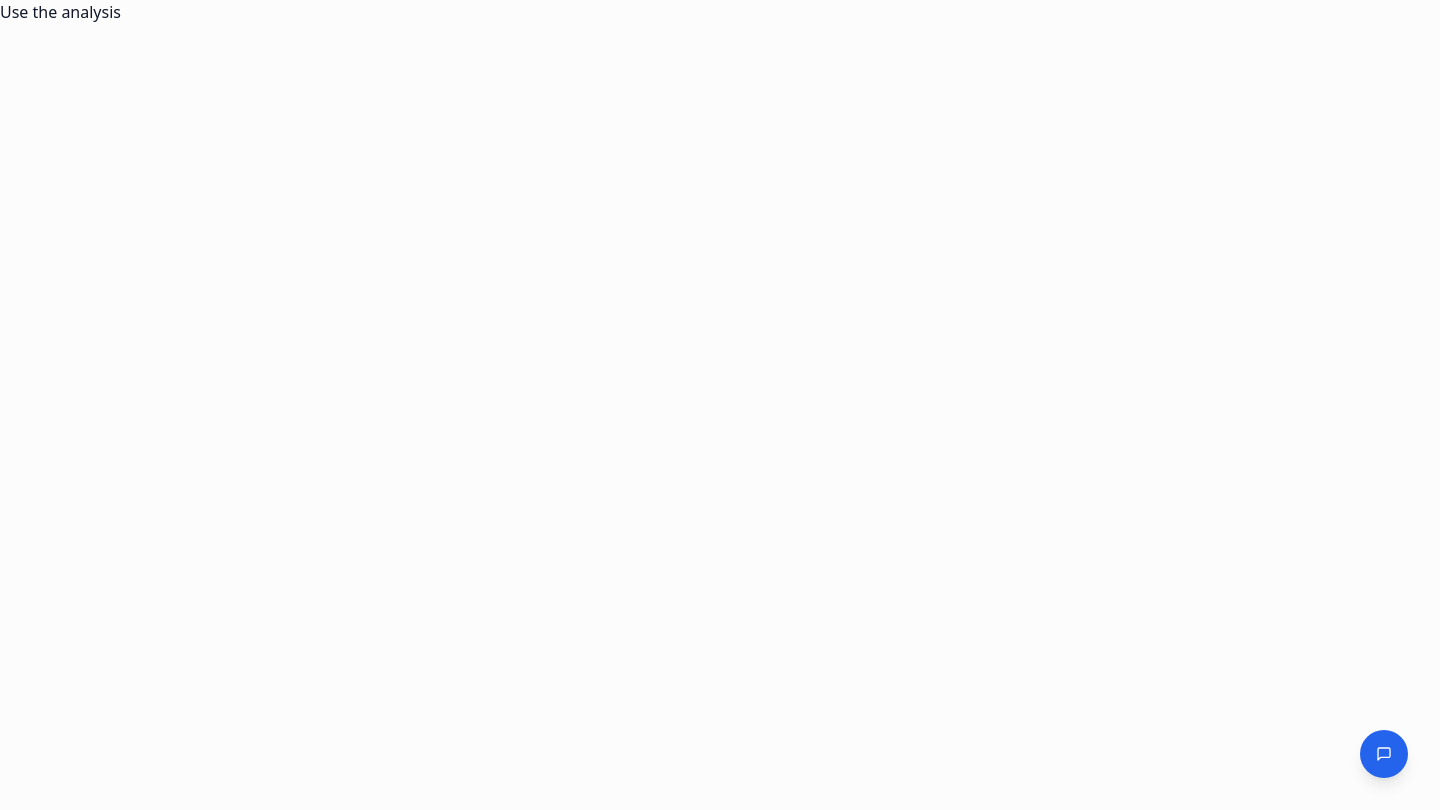
Test: AnalysisChatBubble › keeps the question after a quota failure without automatically retrying
Click the button named "Chat about this analysis" at (1384, 754), box [1360,730,1408,778]
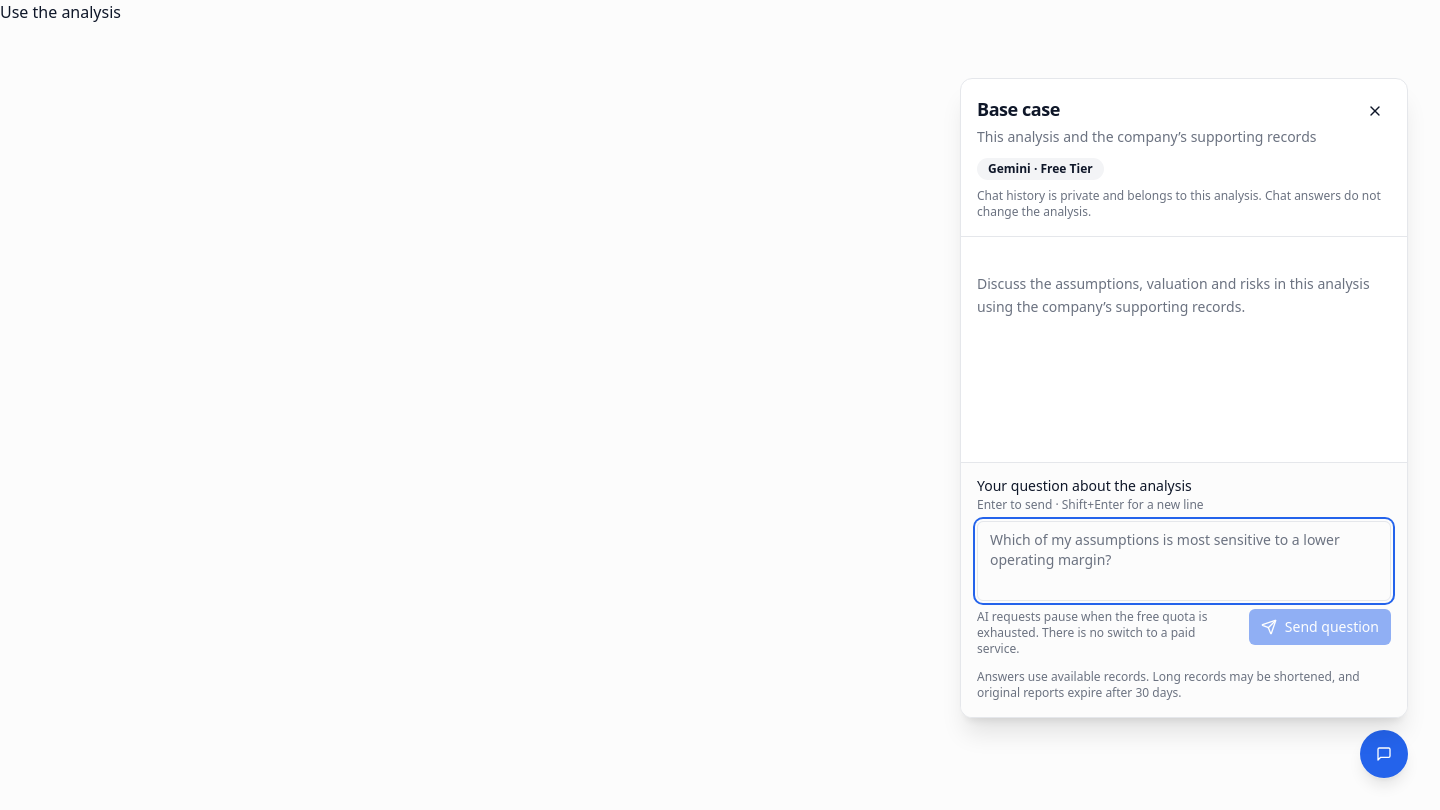
Expected: the text box labelled "Your question about the analysis" is enabled
Replace the text in the text box labelled "Your question about the analysis" with "Stress-test my growth assumption" at (1184, 561), box [977,521,1391,601]
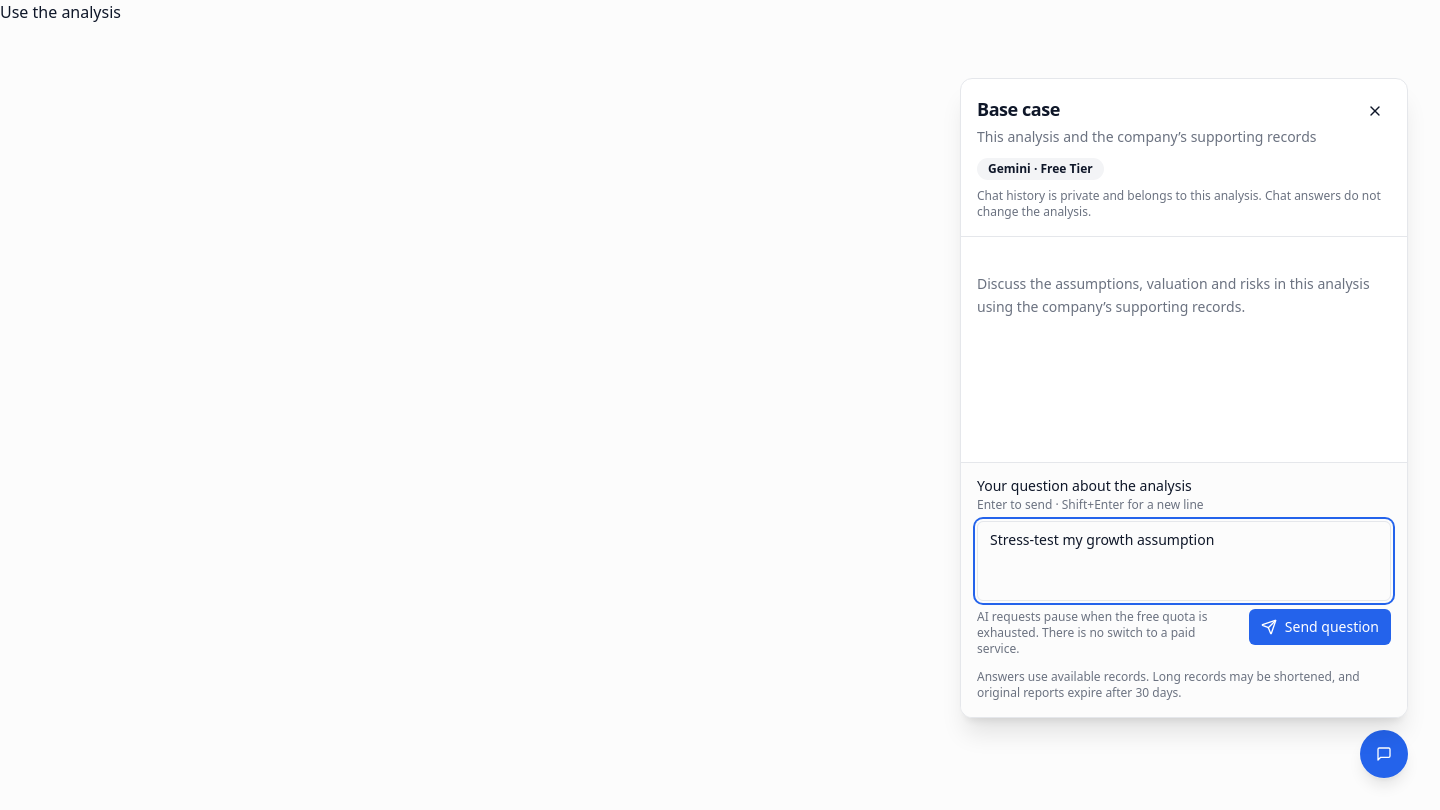
Click the button "Send question" at (1320, 627), box [1249,609,1391,645]
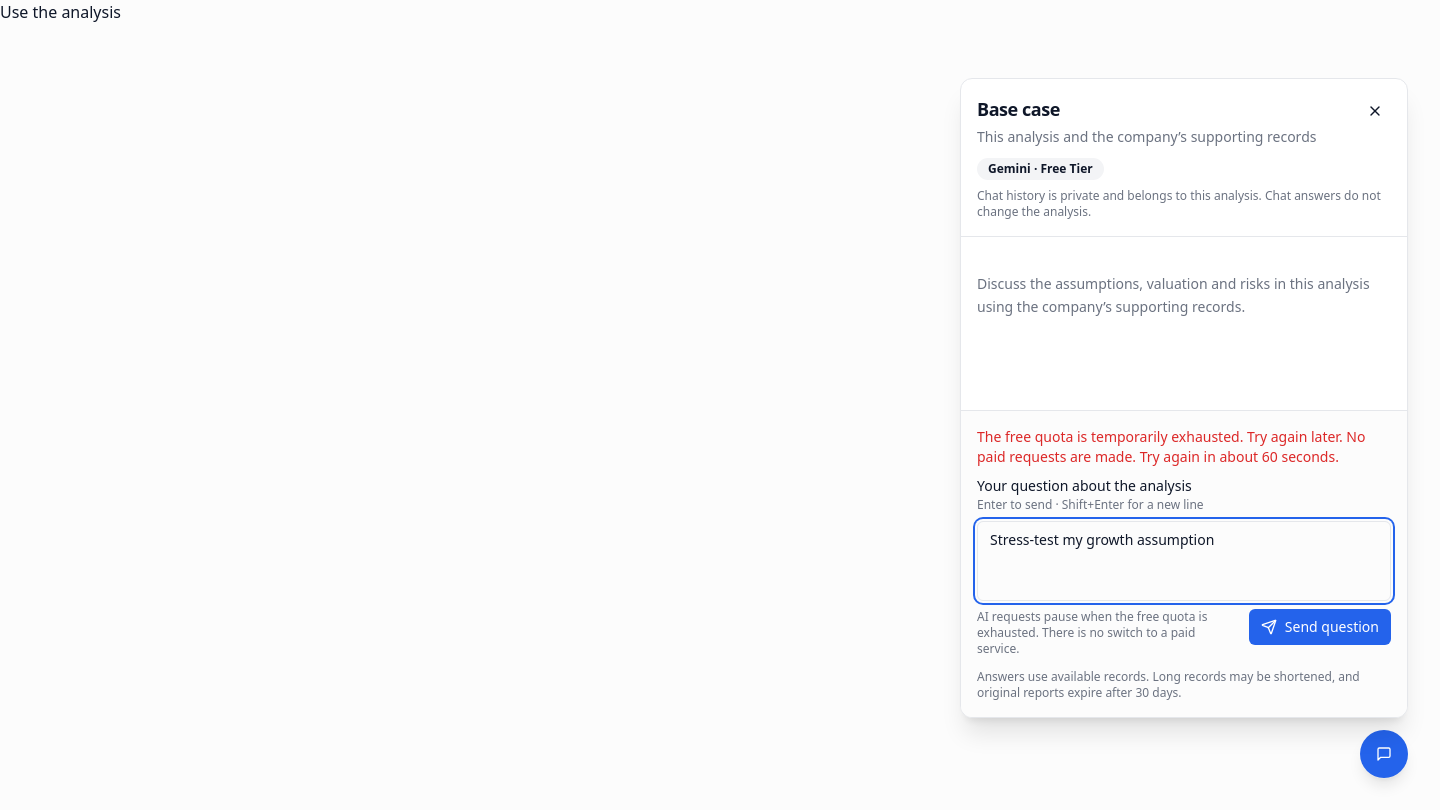
Expected: the message shows "The free quota is temporarily exhausted", [977,427,1365,466]
